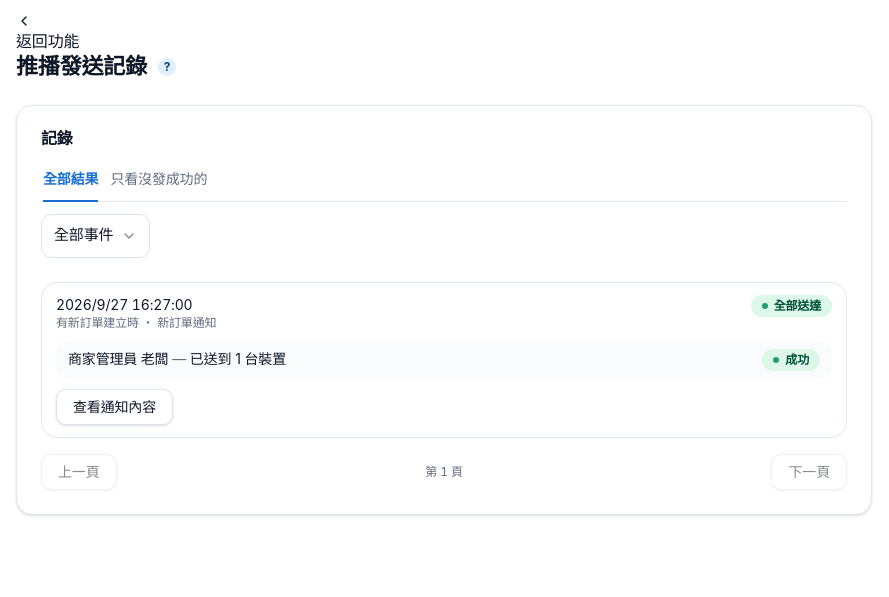
Test: PushLogsPage(#778) › 通知內容收在「查看通知內容」裡(白話原因不在裡面,不用點就看得到)
Expected: the text "內容：10/01 10:00 王小明 剪髮" is not shown
Step 1. Click the button "查看通知內容" → (114, 406), box [56,388,173,424]
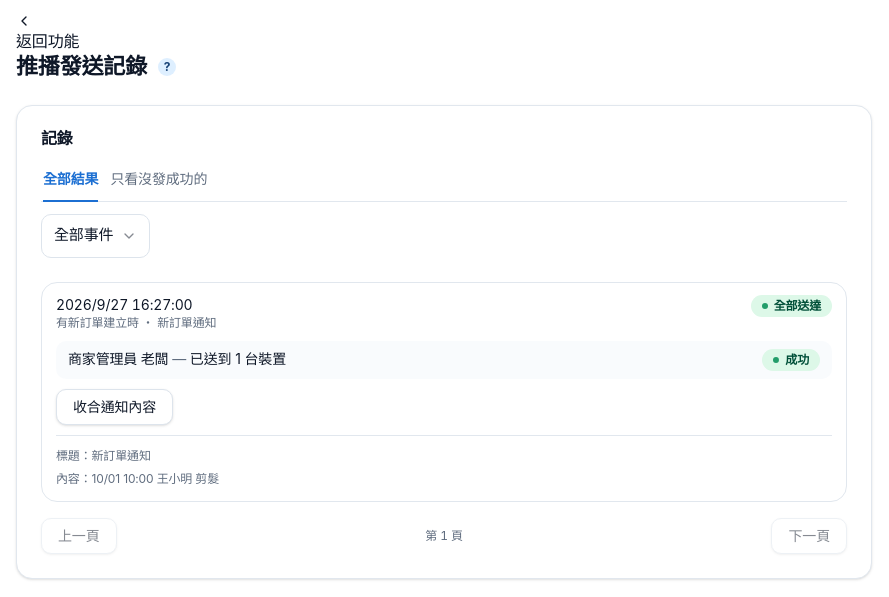
Expected: the text "內容：10/01 10:00 王小明 剪髮" is shown, [56,471,219,486]
